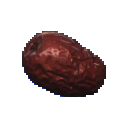gd: (20, 21, 115, 109)
